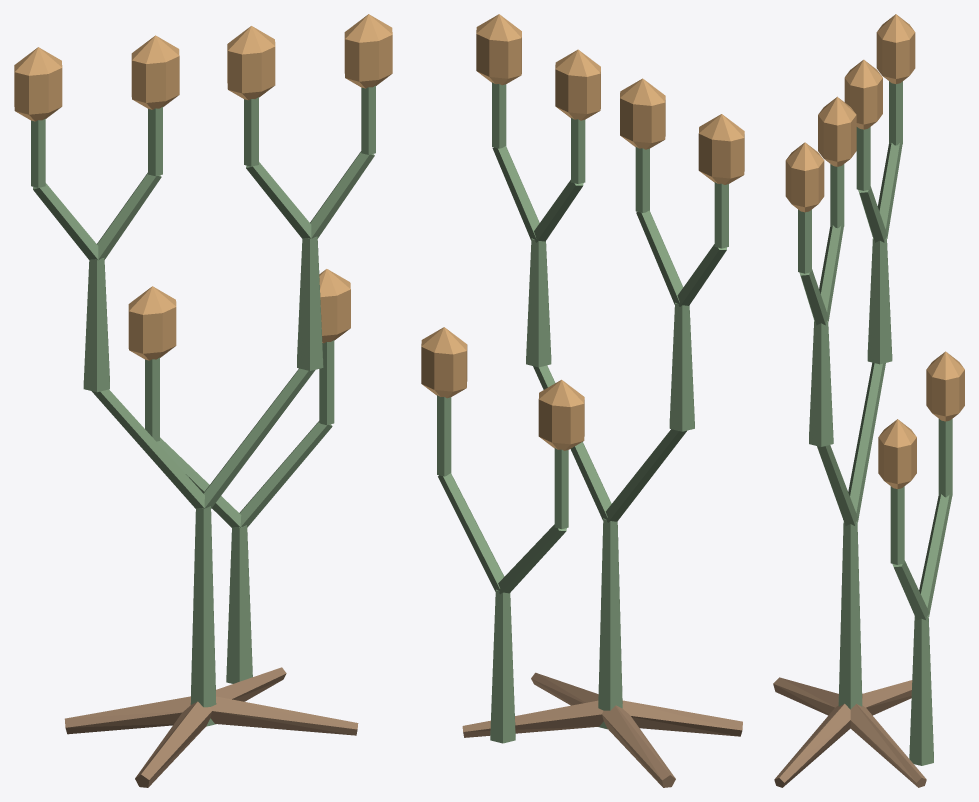
File: cooksonia.96ab0baf0829.glb
The picture shows the model from 3 angles, left to right: view 1: azimuth 30°, elevation 25°; view 2: azimuth 150°, elevation 25°; view 3: azimuth 270°, elevation 25°; orthographic projection. The views are drawn at different scales.
Parts seen in each view (by area): view 1: cooksonia; view 2: cooksonia; view 3: cooksonia.
Part boxes in pixels (x1,y1,x2,y2): cooksonia: (14,14,392,787); cooksonia: (421,14,744,787); cooksonia: (773,14,964,787).
Size of the model in its own units: 0.4991 by 1 by 0.2643.
